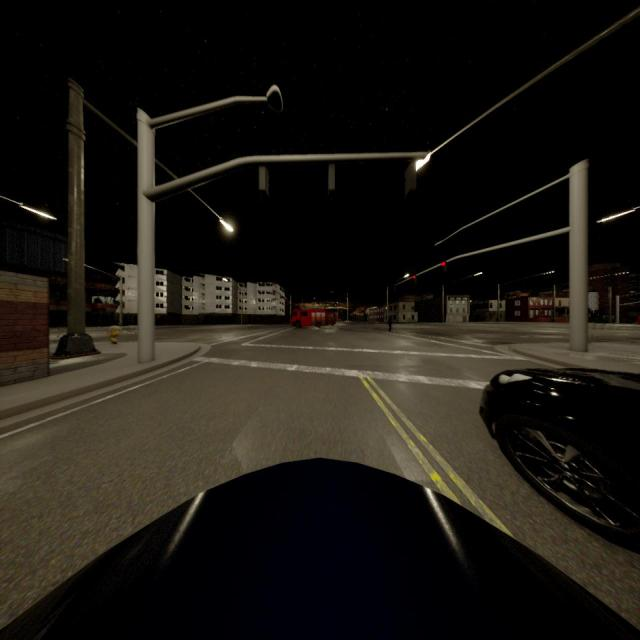Pedestrian: (108, 322, 121, 343), (388, 314, 393, 331)
Vehicle: (0, 462, 640, 640), (483, 369, 640, 545), (291, 309, 335, 328)
traffic_light: (405, 158, 417, 192), (260, 163, 268, 192), (328, 161, 335, 189), (442, 261, 446, 266), (413, 275, 416, 279)
